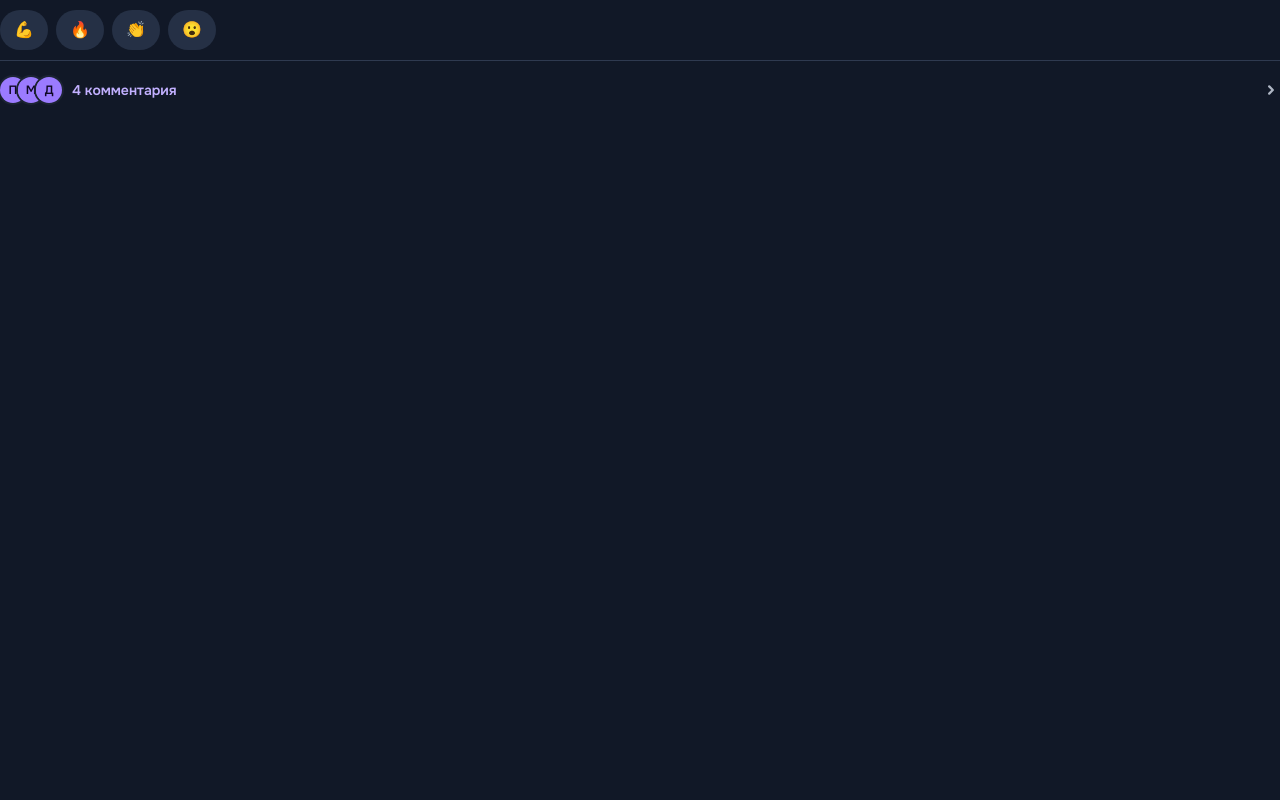
Test: WorkoutSocial — строка комментариев › тап — лист «Комментарии» со всеми и полем; «закрыть» — назад к карточке
Click the button "П М Д 4 комментария" at (124, 90), box [0,60,1279,104]
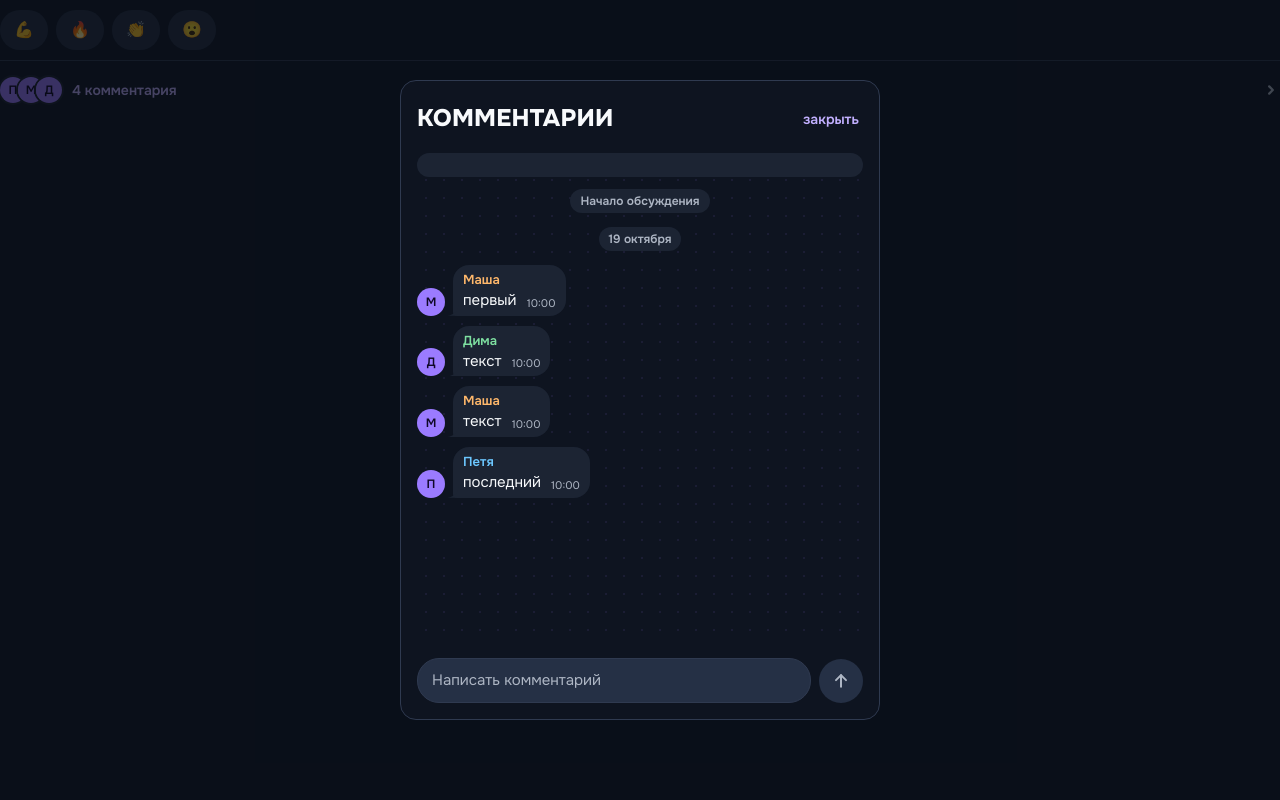
Now the text "первый" is shown, box [463,290,516,310]
Now the text "последний" is shown, box [463,472,541,492]
Now the text box labelled "комментарий" is shown, box [417,658,811,703]
Click the button "закрыть" at (831, 119), box [799,97,863,141]
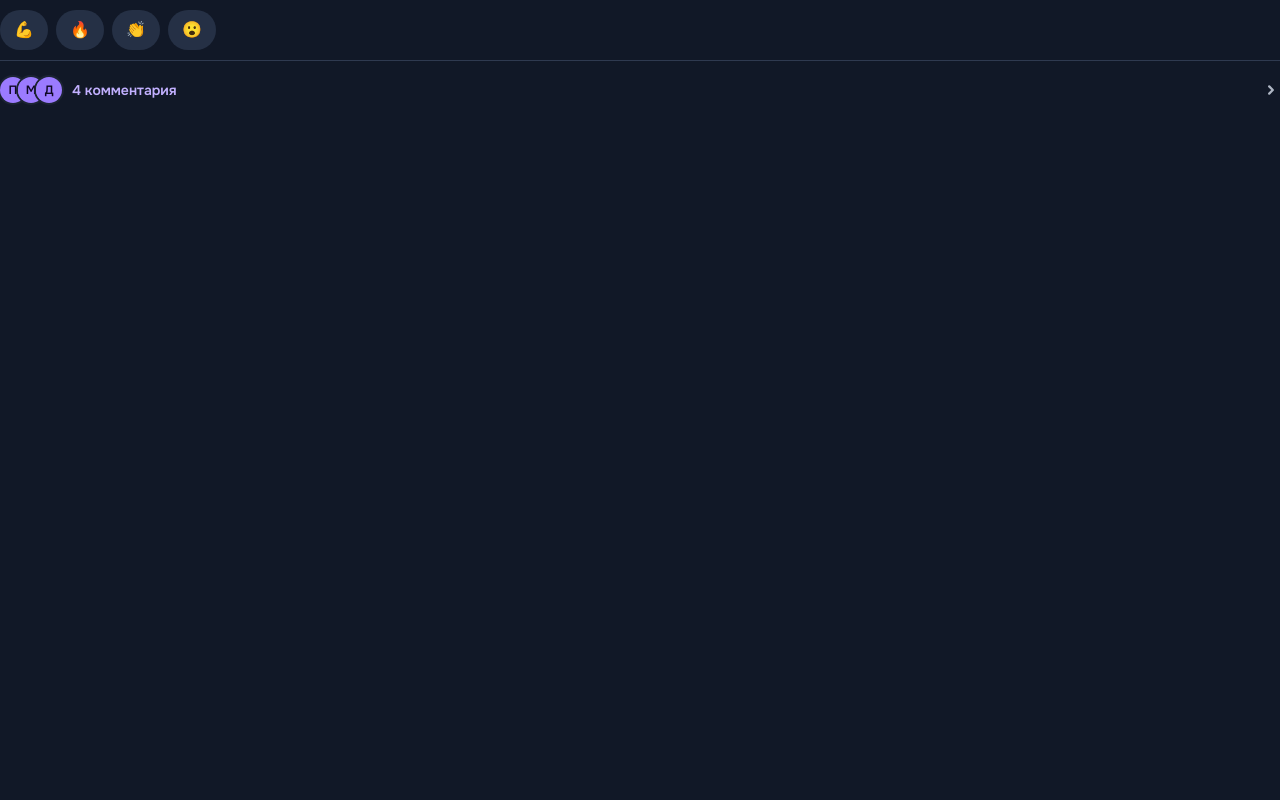
Now the text "Комментарии" is gone
